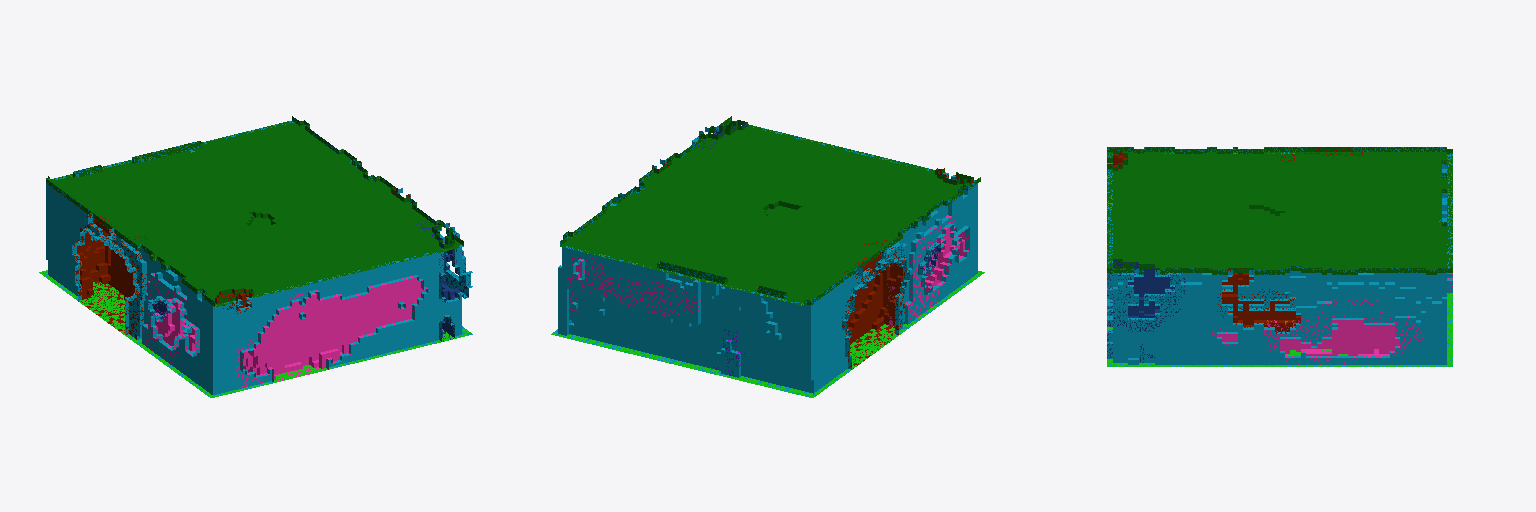
Rendered from Input_prediction.obj.
3 views of the same model, side by side, from view 1: azimuth 30°, elevation 25°; view 2: azimuth 150°, elevation 25°; view 3: azimuth 270°, elevation 25° (orthographic).
Visible parts, largest first — view 1: Cube; view 2: Cube; view 3: Cube.
Boxes of the visible parts, x1,y1,x2,y2 form: Cube: [39, 116, 472, 397]; Cube: [551, 116, 984, 397]; Cube: [1107, 147, 1452, 366].
Bounding box in the file's own units: 4.64 × 1.6 × 5.28.